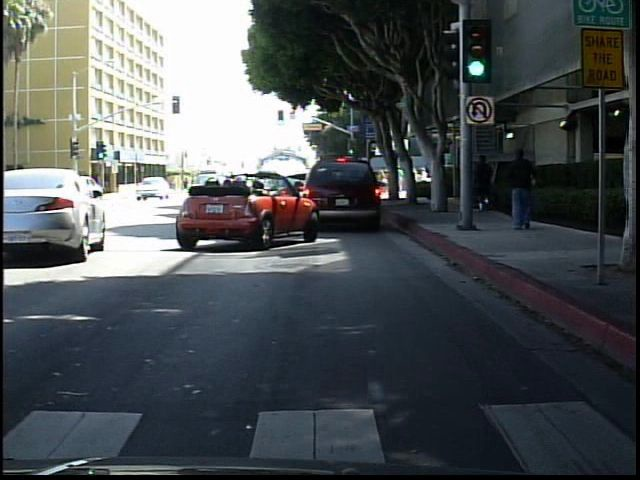person: (504, 140, 540, 232), (472, 149, 500, 219)
